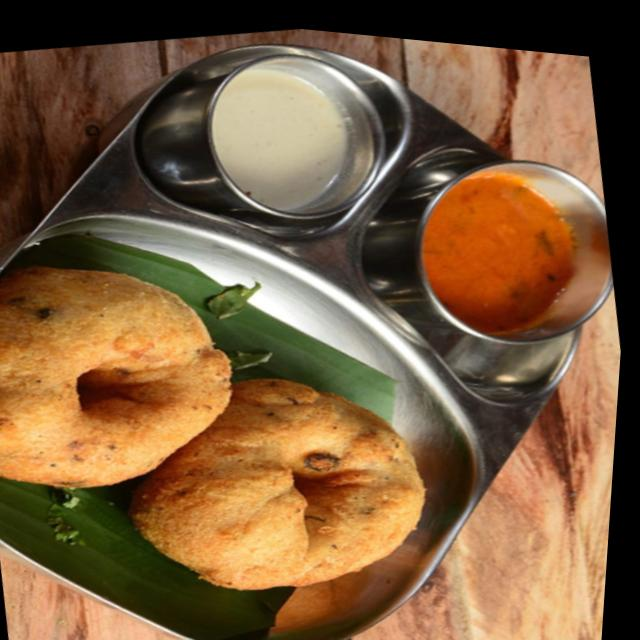SAMBAR: (421, 172, 585, 331)
VADA: (0, 264, 428, 588)
WHITE CHUTNEY: (213, 67, 349, 212)
